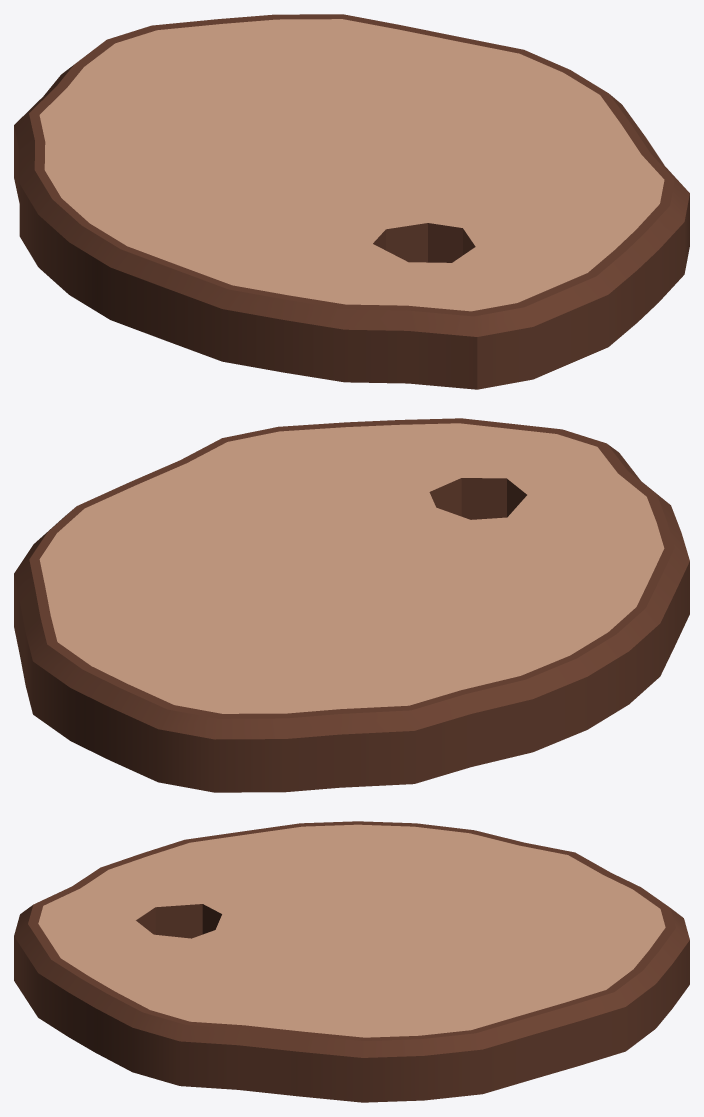
Rendered from tabua.fbx.
3 renders of one model, top to bottom at view 1: azimuth 30°, elevation 25°; view 2: azimuth 150°, elevation 25°; view 3: azimuth 270°, elevation 25°, orthographic. The views are drawn at different scales.
Parts seen in each view (by area): view 1: Tabua; view 2: Tabua; view 3: Tabua.
Part boxes in pixels (<box>): Tabua: <box>14,14,689,389</box>; Tabua: <box>14,418,689,792</box>; Tabua: <box>14,821,689,1102</box>.
Bounding box in the file's own units: 109 × 12.43 × 135.
